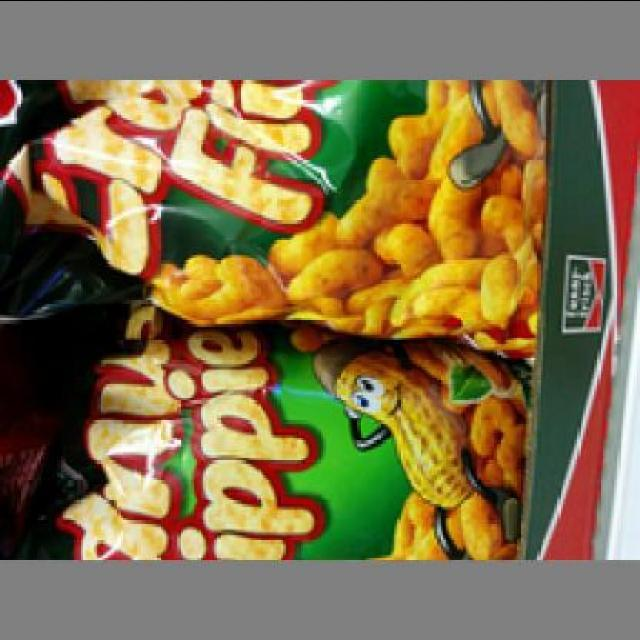Chips: (6, 86, 543, 348), (40, 323, 531, 563)
